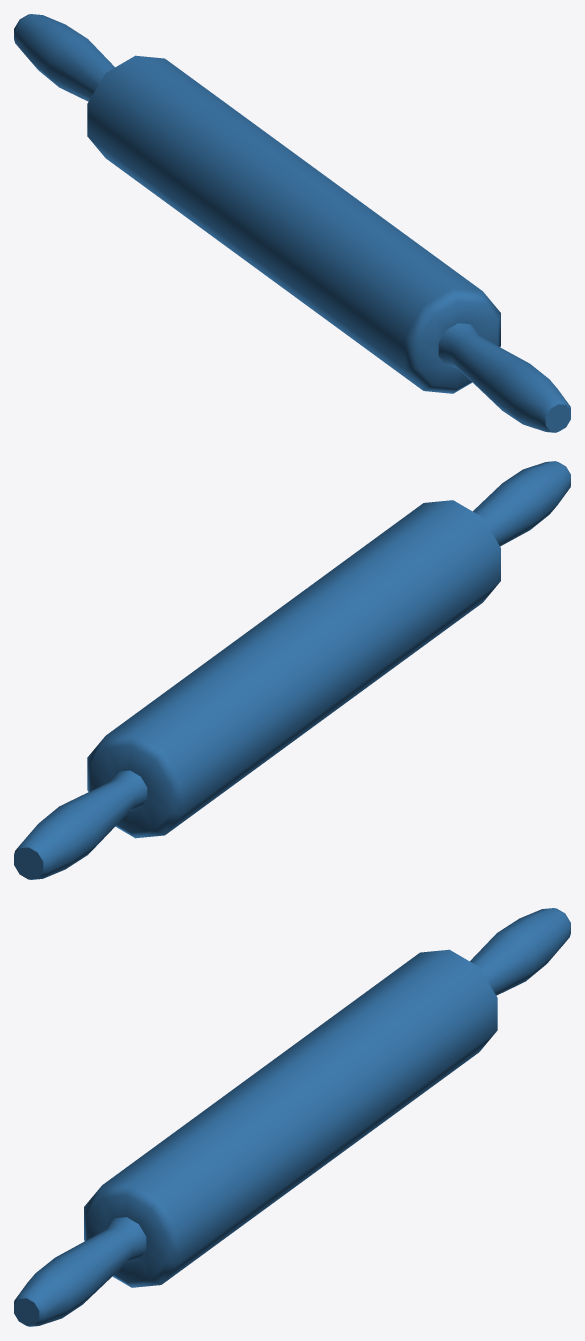
Rendered from rodillo.fbx.
3 views of the same model, one above another, from view 1: azimuth 30°, elevation 25°; view 2: azimuth 150°, elevation 25°; view 3: azimuth 330°, elevation 25° (orthographic).
Visible parts, largest first — view 1: pCylinder4; view 2: pCylinder4; view 3: pCylinder4.
Part boxes in pixels (<box>): pCylinder4: <box>14,14,570,432</box>; pCylinder4: <box>14,461,570,879</box>; pCylinder4: <box>14,908,570,1326</box>.
Bounding box in the file's own units: 0.0341 × 0.0358 × 0.326.
